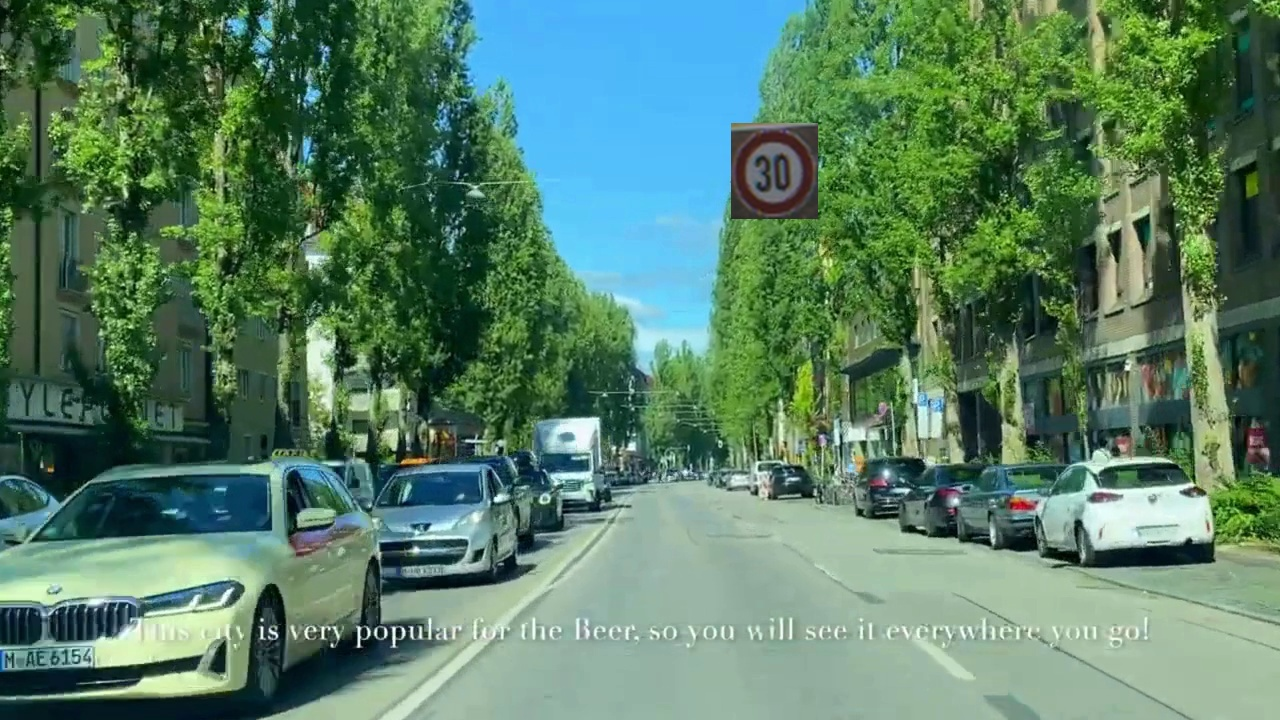Speed 30: (731, 123, 818, 219)
